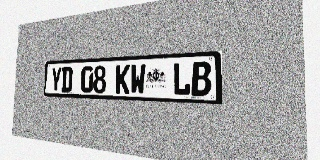0: (81, 66, 93, 93)
8: (93, 65, 106, 93)
B: (191, 61, 211, 96)
D: (61, 67, 73, 92)
K: (115, 64, 130, 94)
L: (172, 62, 191, 96)
W: (130, 64, 146, 94)
Y: (50, 67, 62, 92)
